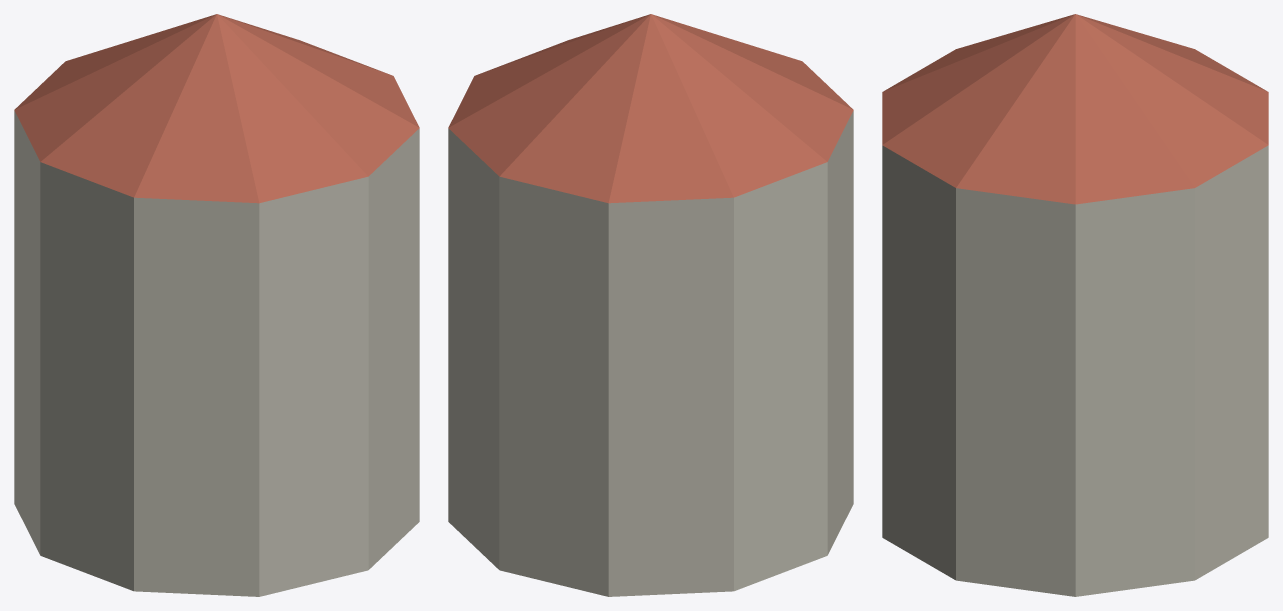
Rendered from silo.glb.
3 renders of one model, left to right at view 1: azimuth 30°, elevation 25°; view 2: azimuth 150°, elevation 25°; view 3: azimuth 270°, elevation 25°, orthographic.
Bounding box in the file's own units: 2.82 × 3.8 × 2.68.
